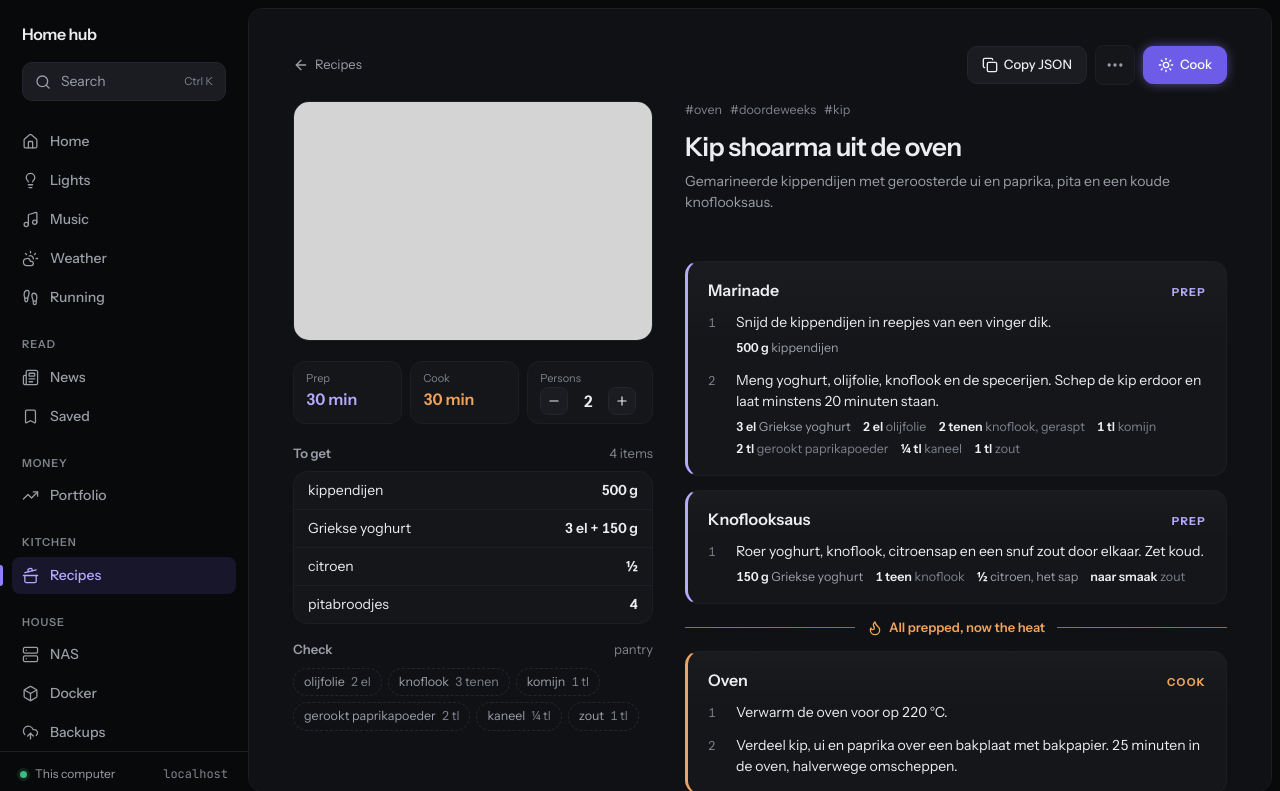
Test: RecipePage › deletes only after a second yes, and says so on the list
The width and height of the screenshot is (1280, 791).
What coordinates should you click on to do the following:
click the button named "Recipe actions"
I would click on:
 (1115, 65)
Its box is left=1095, top=45, right=1135, bottom=85.
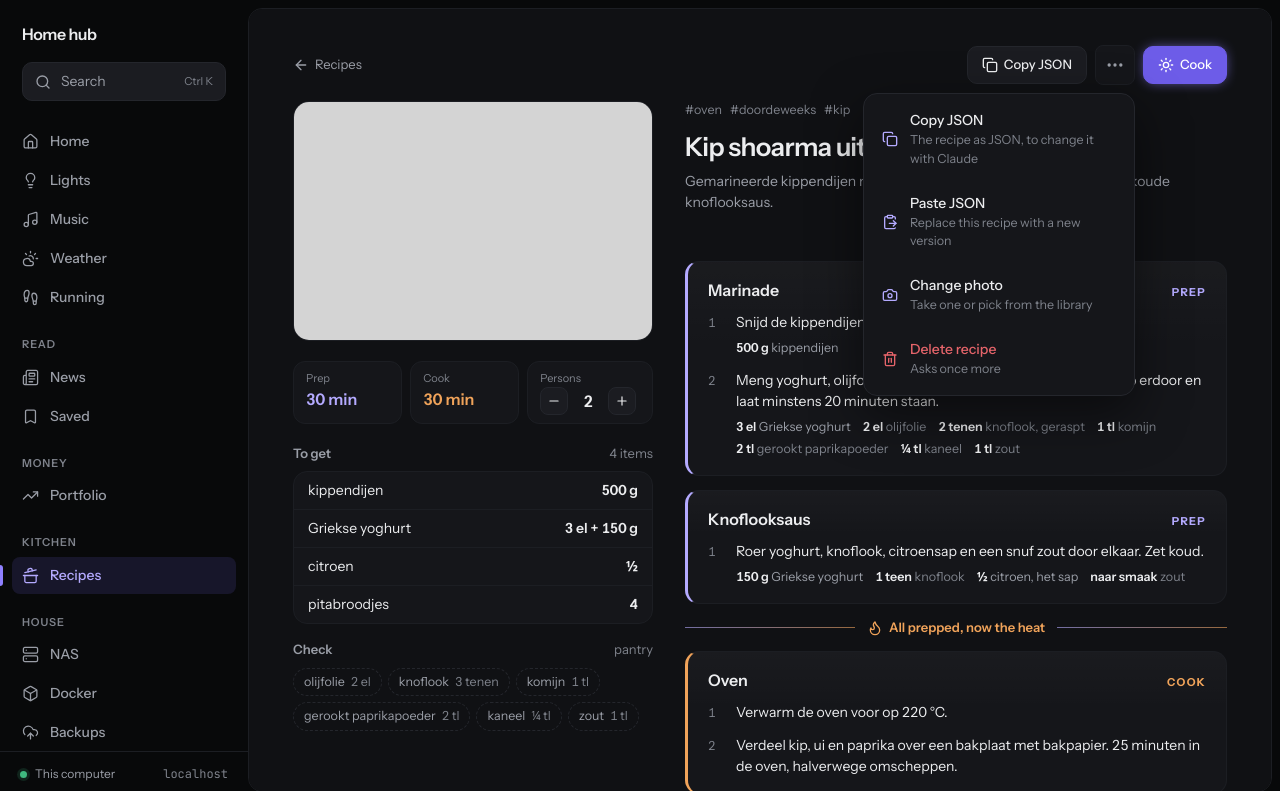
What coordinates should you click on to do the following:
click the menu item "Delete recipe Asks once more"
I would click on:
 (999, 359)
Its box is left=870, top=329, right=1128, bottom=389.
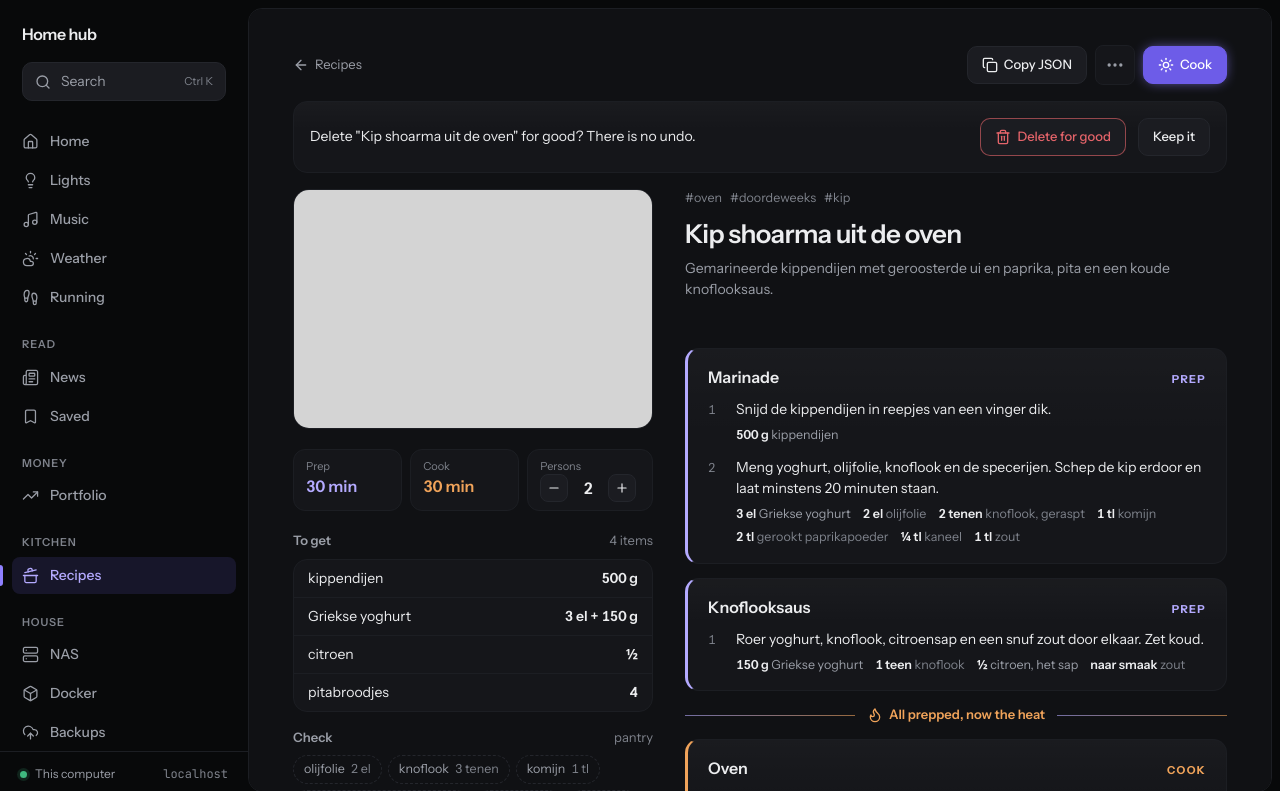
What coordinates should you click on to do the following:
click the button "Keep it"
I would click on:
 (1174, 137)
Its box is left=1138, top=118, right=1210, bottom=156.
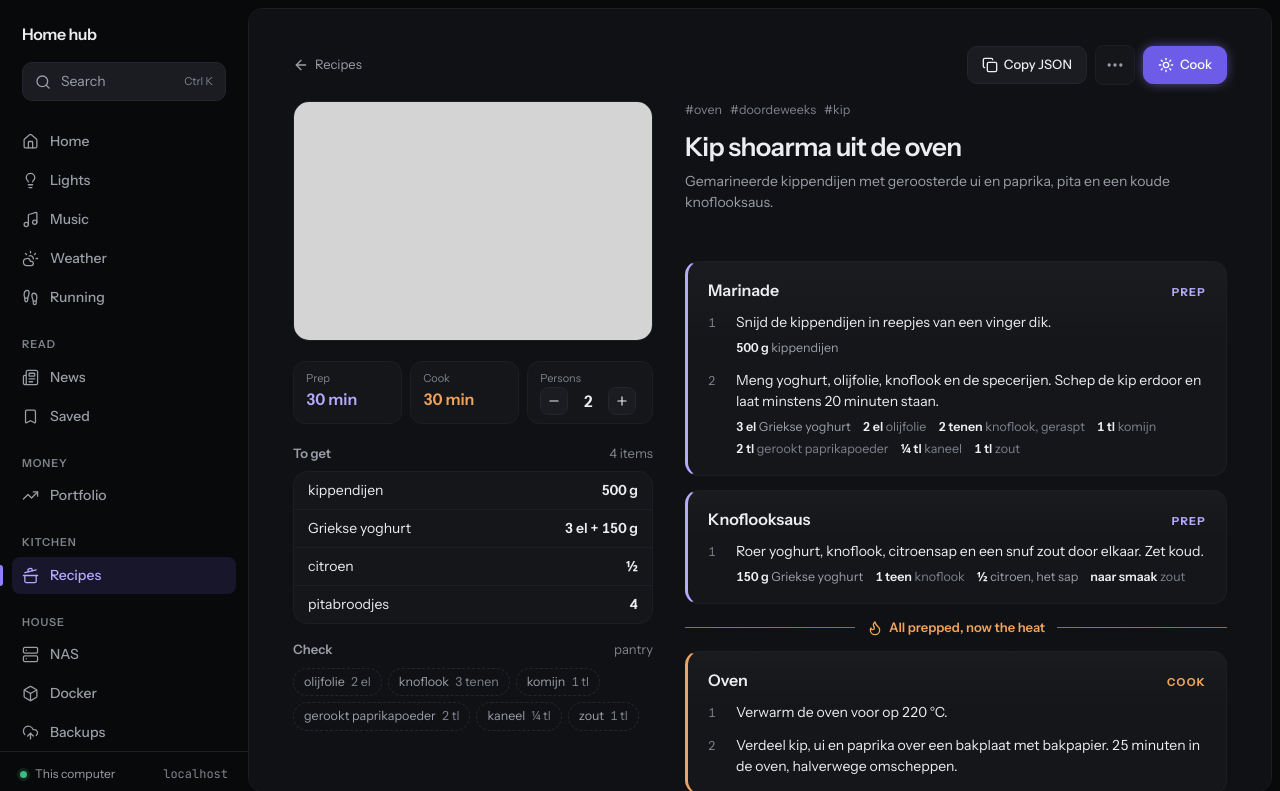
Now the message is gone
What coordinates should you click on to do the following:
click the button named "Recipe actions"
I would click on:
 (1115, 65)
Its box is left=1095, top=45, right=1135, bottom=85.
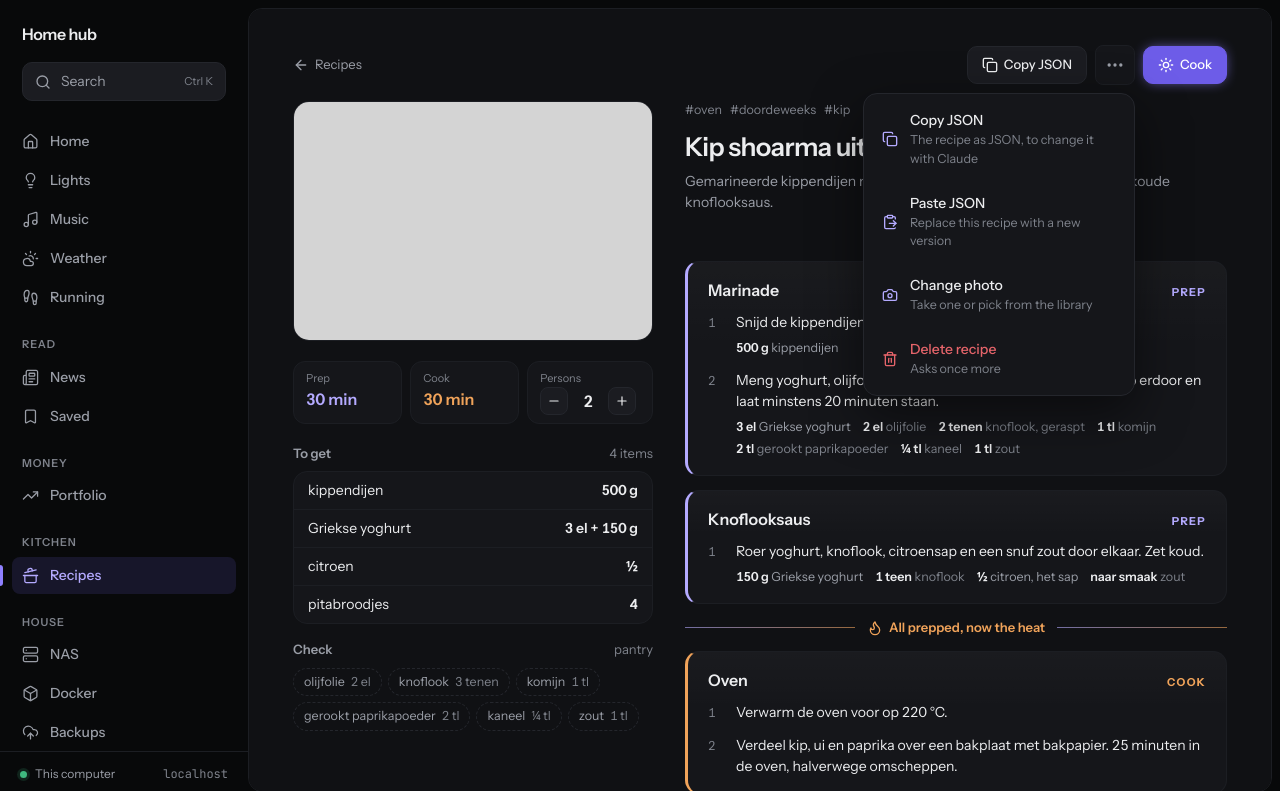
What coordinates should you click on to do the following:
click the menu item "Delete recipe Asks once more"
I would click on:
 (999, 359)
Its box is left=870, top=329, right=1128, bottom=389.
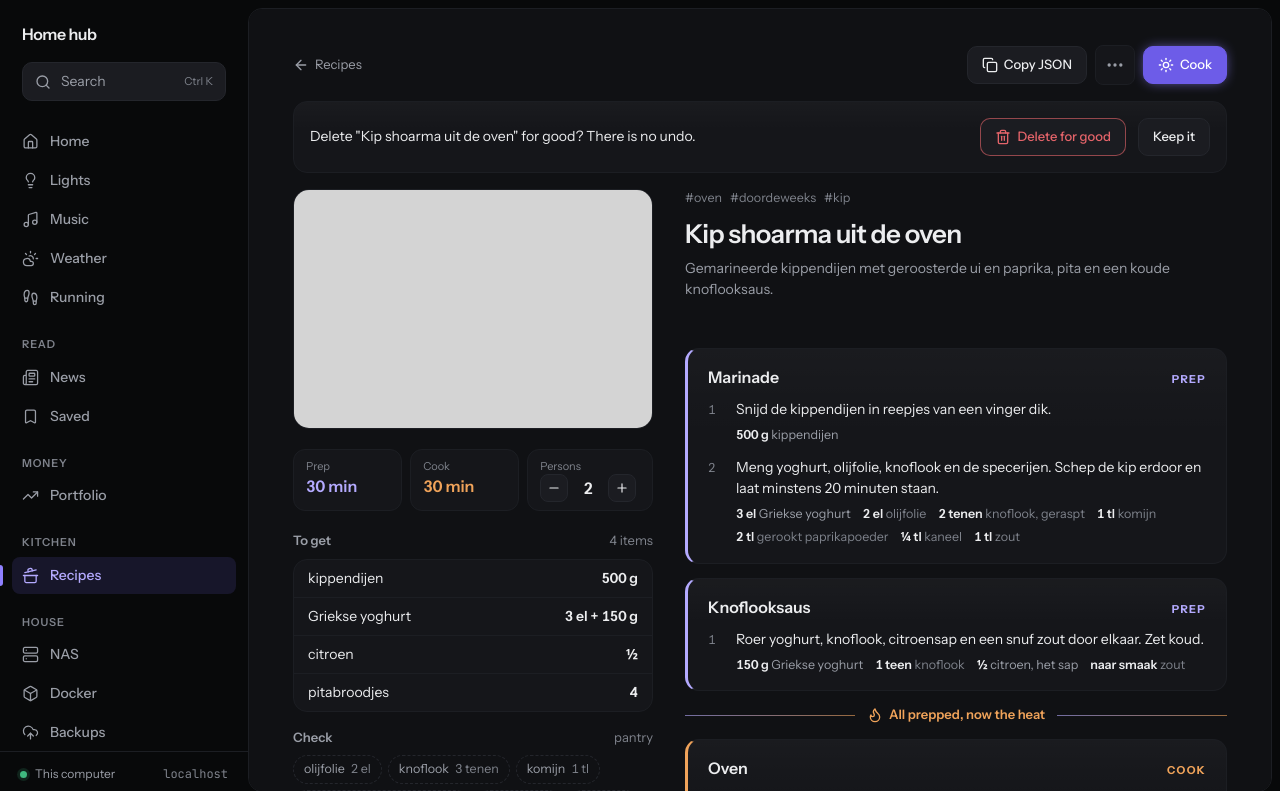
What coordinates should you click on to do the following:
click the button "Delete for good"
I would click on:
 (1053, 137)
Its box is left=980, top=118, right=1126, bottom=156.
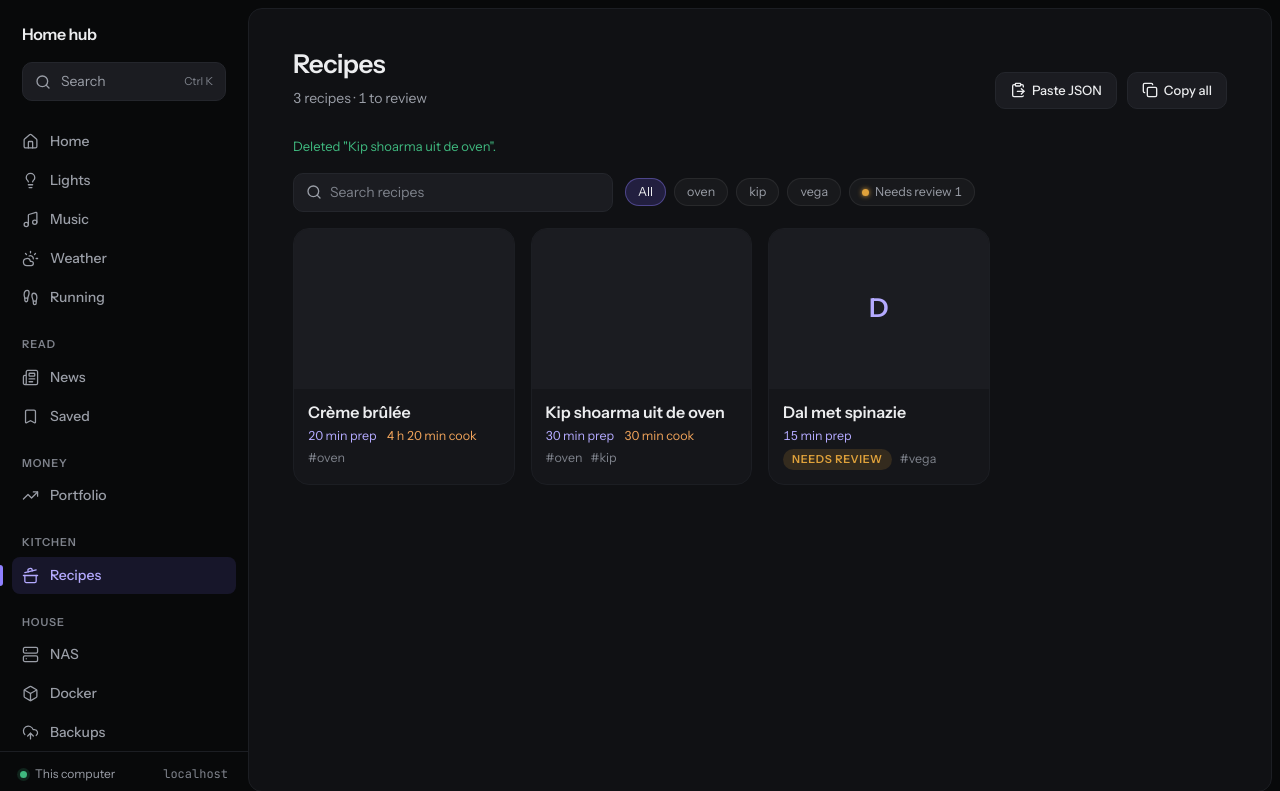
Now the text "Deleted \"Kip shoarma uit de oven\"." is shown, box left=293, top=138, right=496, bottom=154
Now the heading "Recipes" is shown, box left=293, top=48, right=385, bottom=80
